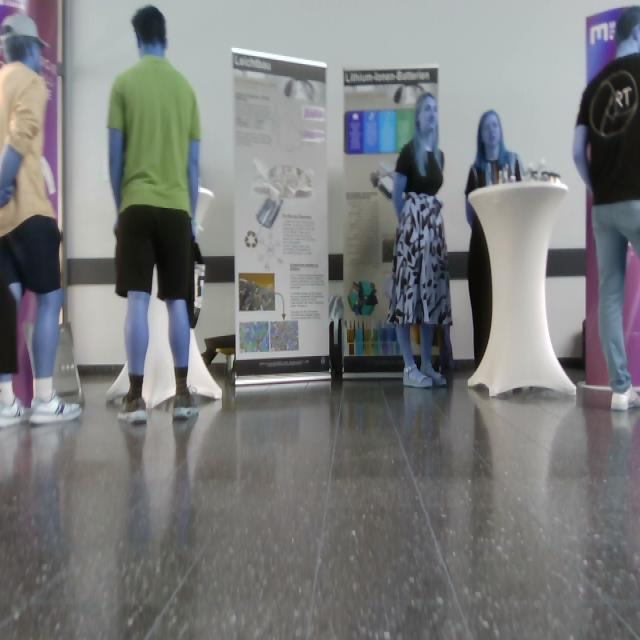light bulb: (253, 157, 314, 229), (240, 277, 286, 321), (194, 186, 215, 232), (284, 79, 316, 103), (394, 85, 425, 105)
person: (107, 5, 203, 424), (1, 13, 83, 428), (572, 6, 640, 413), (388, 92, 454, 389), (465, 109, 525, 370)
pillar: (467, 179, 577, 399)
tiled floor: (1, 361, 640, 640)
